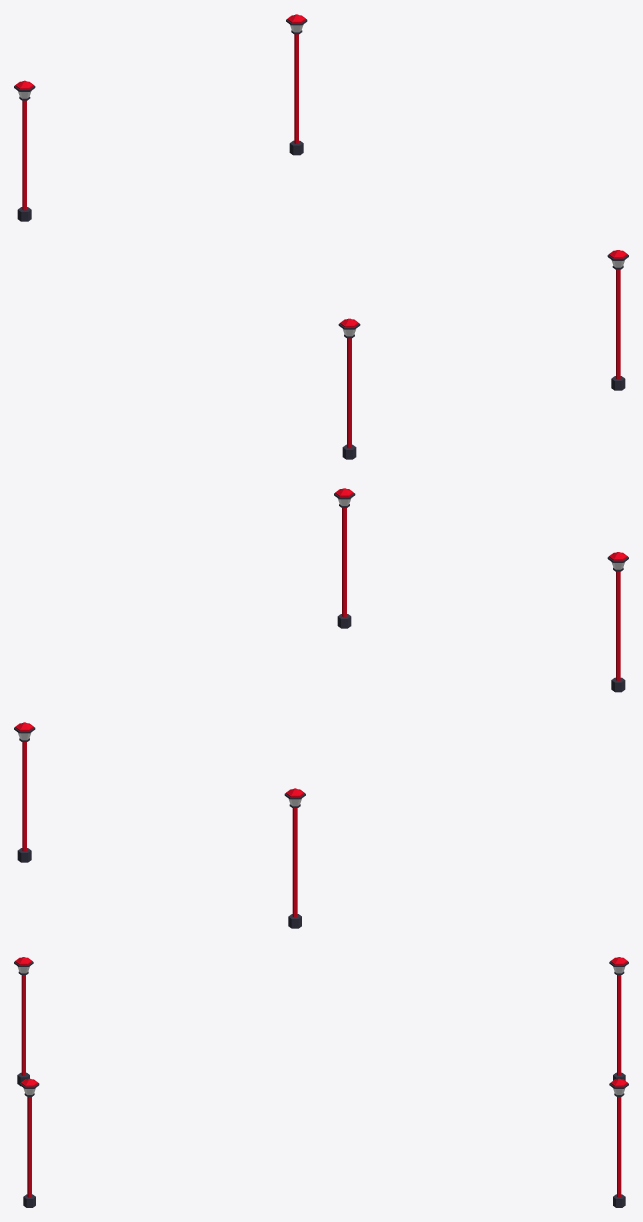
File: lamps.fbx
The picture shows the model from 3 angles, top to bottom: view 1: azimuth 30°, elevation 25°; view 2: azimuth 150°, elevation 25°; view 3: azimuth 270°, elevation 25°; orthographic projection. The views are drawn at different scales.
Visible parts, largest first — view 1: Cylinder.005, Cylinder.012, Cylinder.002, Cylinder.013; view 2: Cylinder.002, Cylinder.012, Cylinder.005, Cylinder.013; view 3: Cylinder.005, Cylinder.013, Cylinder.012, Cylinder.002.
Boxes of the visible parts, box(x1,y1,x2,y2) form: Cylinder.005: box(286, 14, 307, 155); Cylinder.012: box(338, 318, 360, 459); Cylinder.002: box(14, 80, 35, 221); Cylinder.013: box(607, 250, 628, 390); Cylinder.002: box(284, 788, 305, 928); Cylinder.012: box(607, 552, 628, 692); Cylinder.005: box(14, 722, 35, 862); Cylinder.013: box(334, 488, 355, 628); Cylinder.005: box(609, 1078, 628, 1207); Cylinder.013: box(20, 1078, 39, 1207); Cylinder.012: box(14, 957, 33, 1086); Cylinder.002: box(609, 957, 628, 1080).
Bounding box in the file's own units: 1242 × 568 × 2504.
